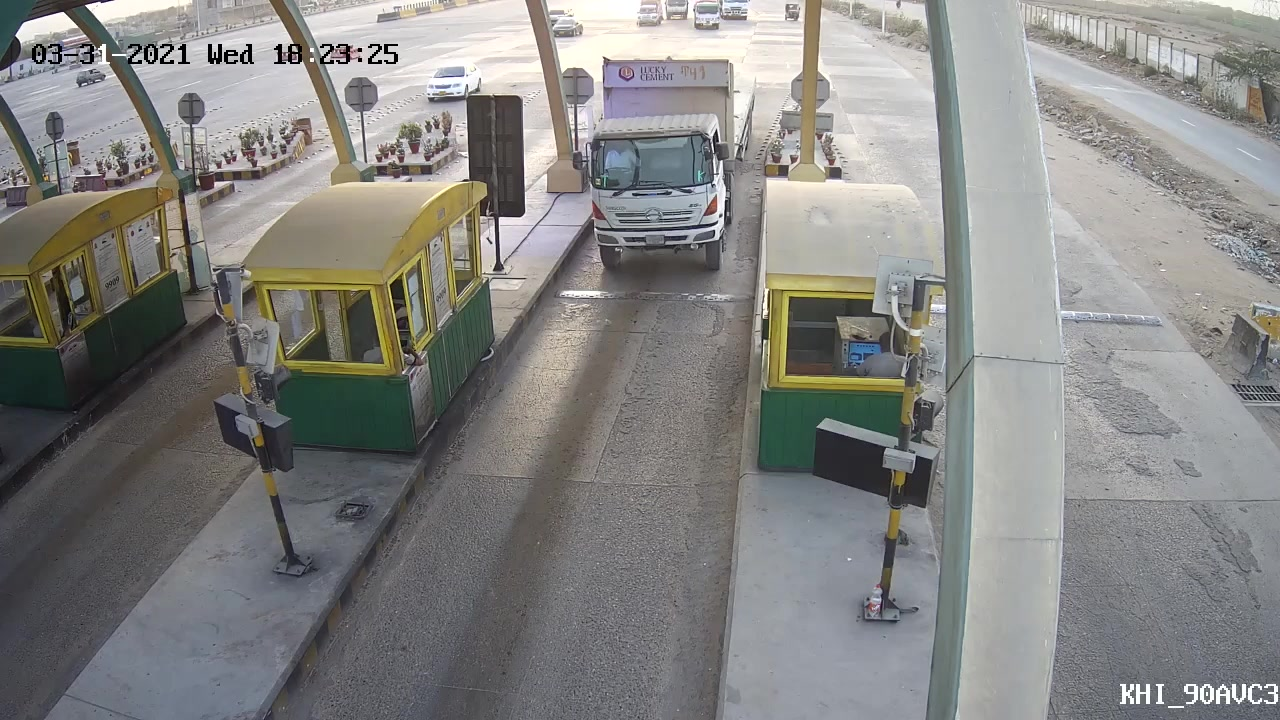F6: (566, 32, 762, 282)
